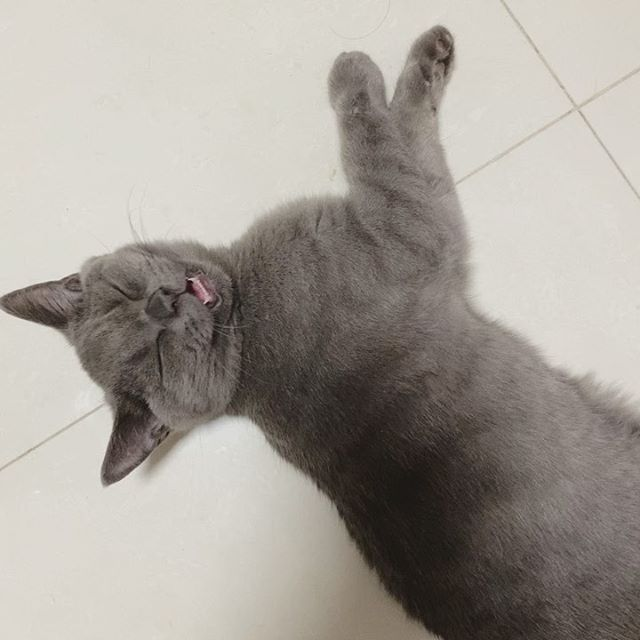cat: (4, 237, 239, 490)
